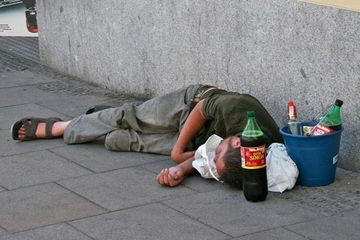gelandangan: (10, 81, 346, 207)
